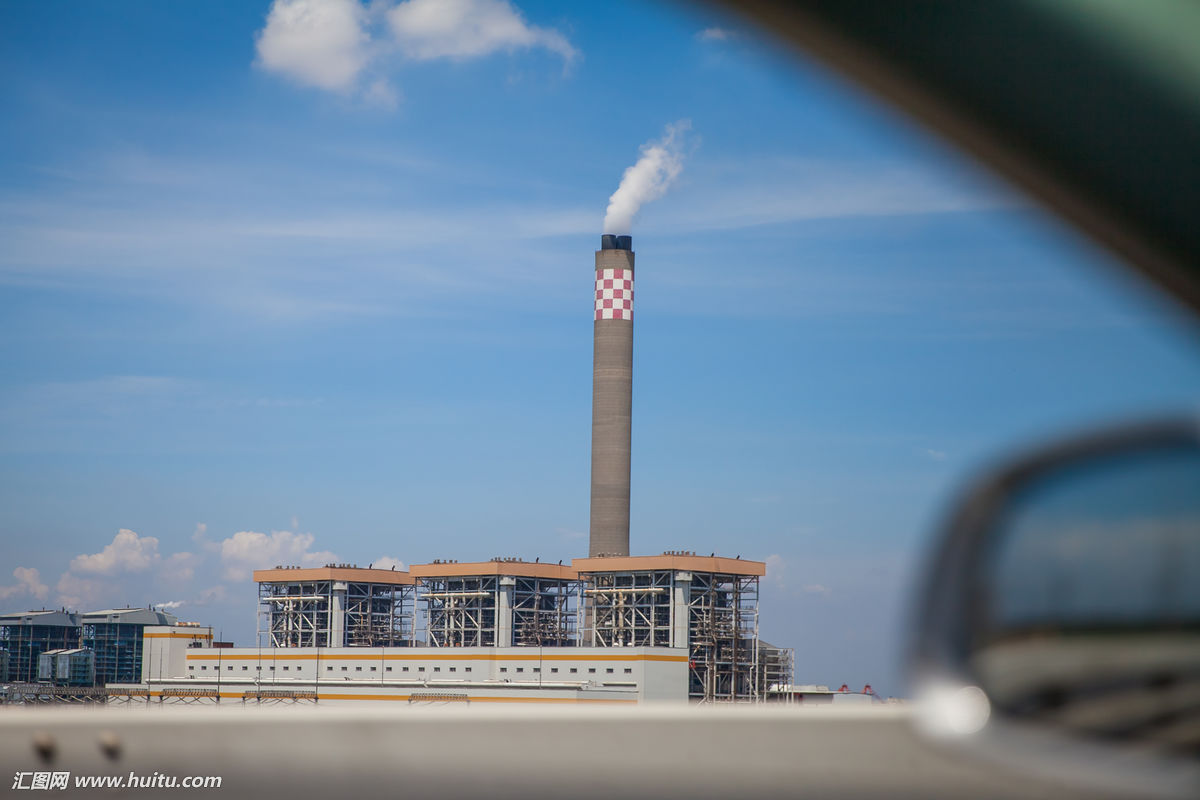dust: (590, 123, 694, 262)
